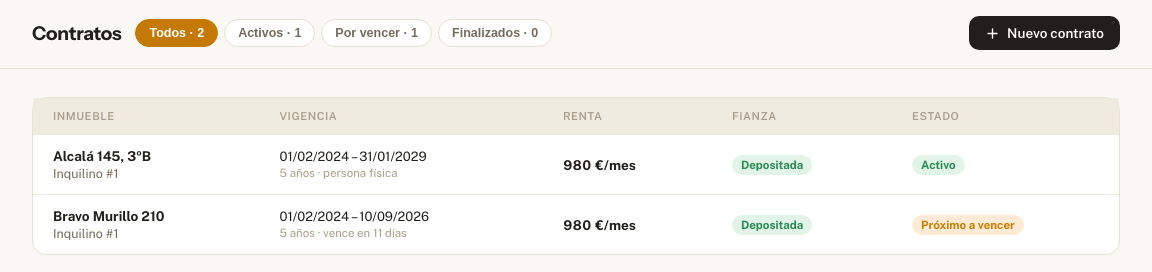
Test: ContratosListado › lista los contratos con su pill de estado y filtra por «Por vencer»
Expected: the text "Alcalá 145, 3ºB" is shown, [53,148,151,164]
Expected: the text "Activo" is shown, [912,154,965,174]
Click the button "Por vencer · 1". click: click(377, 33)
box: [321,19,432,47]
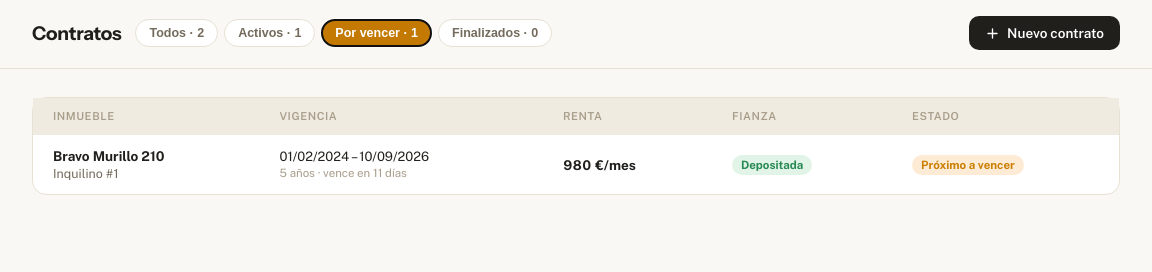
Expected: the text "Bravo Murillo 210" is shown, [53,148,164,164]
Expected: the text "Alcalá 145, 3ºB" is gone
